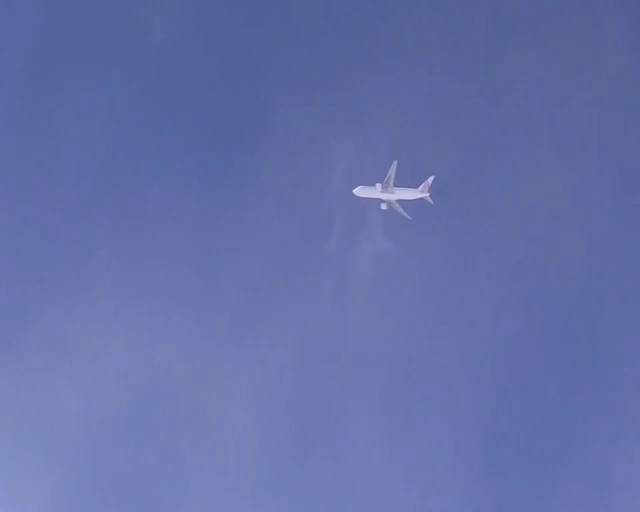AIRPLANE: (353, 160, 436, 218)
